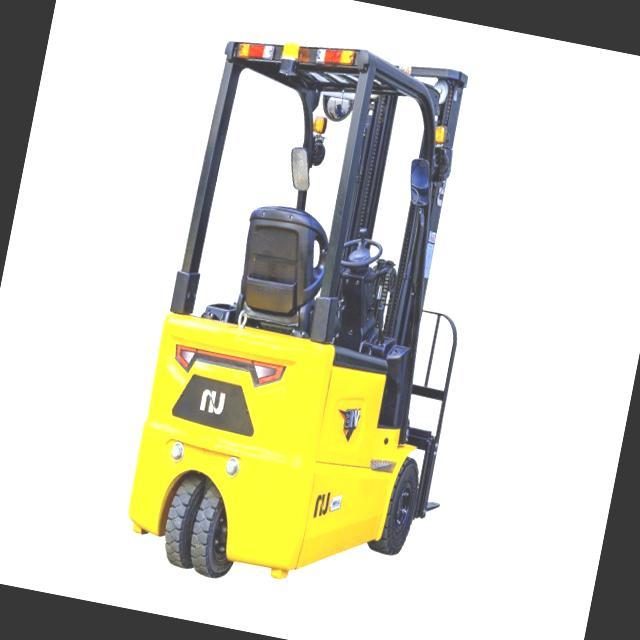forklift: (108, 0, 539, 622)
